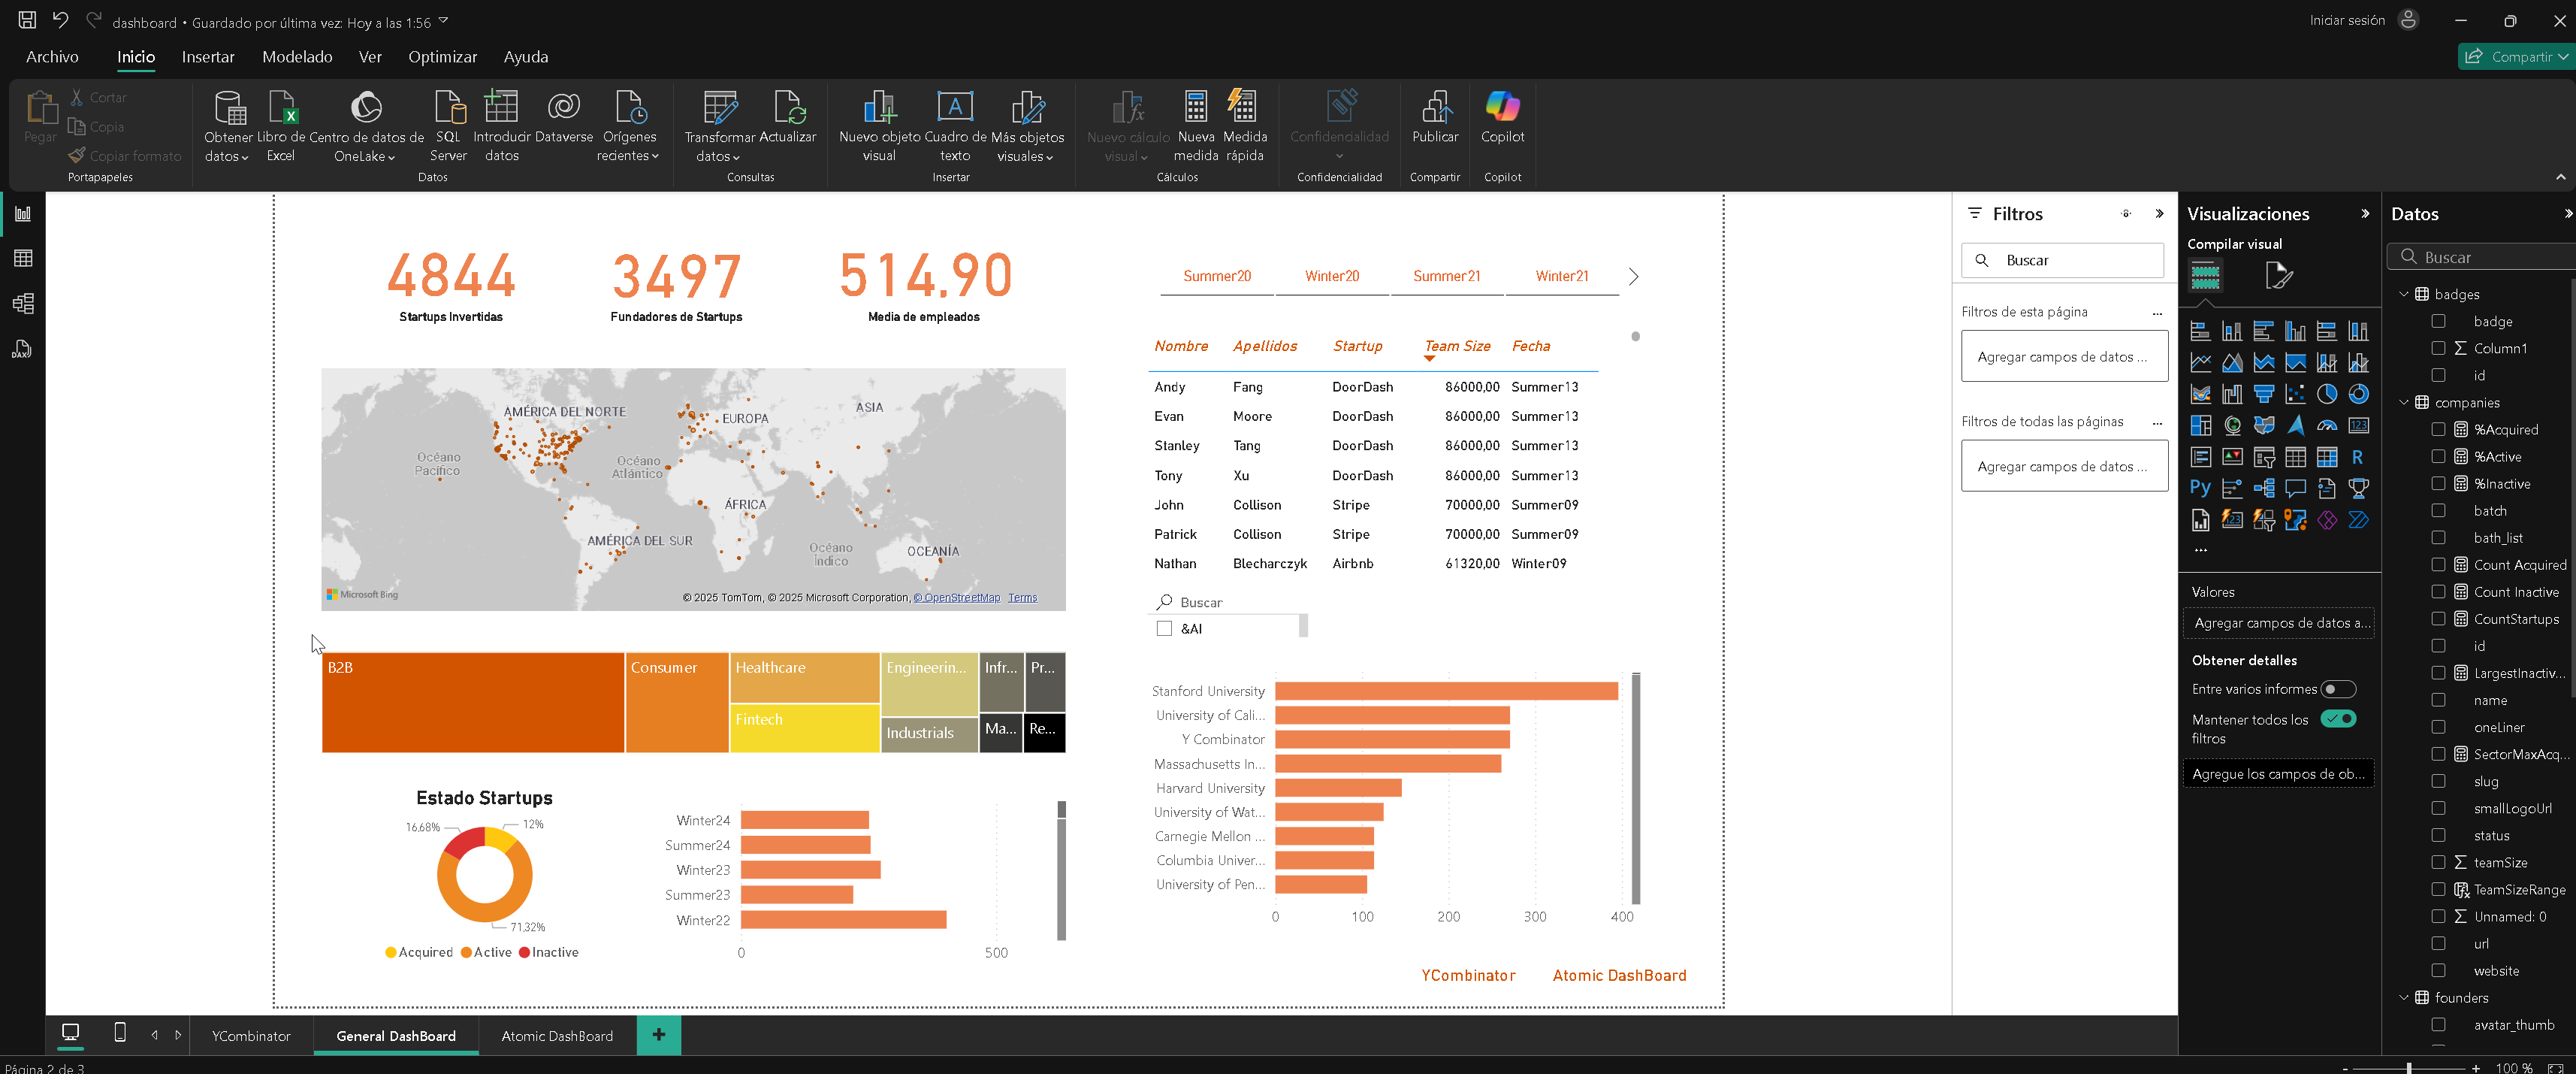

The page's visual inventory and layout, read from the dashboard file:
{"tool":"powerbi","page":{"name":"General DashBoard","canvas":[1280,720],"ordinal":1},"visuals":[{"type":"barChart","title":"Fechas inversiones en Startups","fields":{"Category":["companies.batch"],"Y":["CountNonNull(companies.id)"]},"box":[334.8,525.1,369.6,166.4],"z":0},{"type":"donutChart","title":"Estado Startups","fields":{"Y":["CountNonNull(companies.id)"],"Series":["companies.status"]},"box":[35.9,525.1,298.9,166.4],"z":1000},{"type":"treemap","fields":{"Group":["industries.industry"],"Values":["CountNonNull(companies.id)"]},"box":[35.9,401.5,668.5,99.6],"z":2000},{"type":"tableEx","fields":{"Values":["founders.first_name","founders.last_name","companies.name","Avg(companies.teamSize)","companies.batch"]},"box":[766.2,117.6,446.4,230.2],"z":3000},{"type":"card","fields":{"Values":["CountNonNull(companies.id)"]},"box":[79.7,21.9,151.4,87.7],"z":4000,"group":"g1"},{"type":"map","fields":{"Size":["CountNonNull(companies.id)"],"Category":["regions.address"]},"box":[35.9,150.4,668.5,225.2],"z":4000},{"type":"card","fields":{"Values":["Count(founders.Founder_ID)"]},"box":[275.9,22.9,157.4,88.7],"z":5000,"group":"g2"},{"type":"slicer","fields":{"Values":["companies.name"]},"box":[766.2,347.7,152.4,53.8],"z":5000},{"type":"barChart","fields":{"Y":["CountNonNull(companies.id)"],"Category":["schools.school"]},"box":[757.2,411.5,455.3,248.1],"z":6000},{"type":"slicer","fields":{"Values":["companies.batch"]},"box":[757.2,51.8,455.3,46.8],"z":7000},{"type":"card","fields":{"Values":["Avg(companies.teamSize)"]},"box":[486.2,21.9,175.4,87.7],"z":7500,"group":"g3"},{"type":"textbox","box":[88.7,93.6,134.5,31.9],"z":8000,"group":"g1"},{"type":"pageNavigator","box":[993.6,676,259.2,30.4],"z":8000},{"type":"group","id":"g1","title":"Grupo 1","box":[79.7,21.9,151.4,103.6],"z":9000},{"type":"textbox","box":[262,93.6,186.3,31.9],"z":9000,"group":"g2"},{"type":"group","id":"g2","title":"Grupo 2","box":[262,22.9,186.3,102.6],"z":10000},{"type":"group","id":"g3","title":"Grupo 3","box":[486.2,21.9,175.4,103.6],"z":11000},{"type":"textbox","box":[509.1,93.6,129.5,31.9],"z":15500,"group":"g3"}]}

Visuals, with their boxes on the page's 1280x720 design canvas (x1, y1, x2, y2). These are canvas units, not pixel positions in the 2576x1074 screenshot, which may show the page scaled, cropped or inside an application window:
"Fechas inversiones en Startups" barChart: box(335, 525, 704, 692)
"Estado Startups" donutChart: box(36, 525, 335, 692)
treemap - industries.industry x CountNonNull(companies.id): box(36, 402, 704, 501)
tableEx - founders.first_name x founders.last_name: box(766, 118, 1213, 348)
card - CountNonNull(companies.id): box(80, 22, 231, 110)
map - CountNonNull(companies.id) x regions.address: box(36, 150, 704, 376)
card - Count(founders.Founder_ID): box(276, 23, 433, 112)
slicer - companies.name: box(766, 348, 919, 402)
barChart - CountNonNull(companies.id) x schools.school: box(757, 412, 1212, 660)
slicer - companies.batch: box(757, 52, 1212, 99)
card - Avg(companies.teamSize): box(486, 22, 662, 110)
textbox: box(89, 94, 223, 126)
pageNavigator: box(994, 676, 1253, 706)
"Grupo 1" group: box(80, 22, 231, 126)
textbox: box(262, 94, 448, 126)
"Grupo 2" group: box(262, 23, 448, 126)
"Grupo 3" group: box(486, 22, 662, 126)
textbox: box(509, 94, 639, 126)
